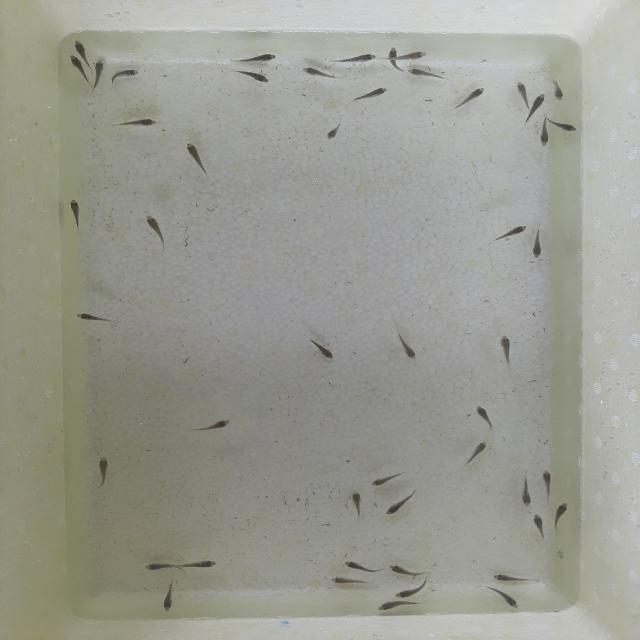fingerling: (382, 488, 419, 518), (192, 412, 236, 436), (490, 587, 530, 612), (142, 211, 168, 245), (395, 336, 427, 363), (179, 138, 207, 168), (494, 332, 521, 362), (71, 310, 116, 327), (524, 91, 546, 125), (515, 473, 535, 509), (456, 86, 488, 108), (489, 568, 528, 585), (307, 339, 338, 360), (300, 65, 338, 81), (376, 598, 414, 614), (66, 196, 86, 226), (474, 403, 498, 428), (233, 54, 283, 65), (356, 85, 392, 100), (470, 440, 488, 469), (497, 224, 529, 240), (116, 117, 162, 128), (236, 70, 272, 84), (406, 66, 444, 79), (368, 473, 400, 488), (350, 487, 366, 517), (388, 563, 420, 578), (162, 578, 176, 612), (392, 586, 431, 598), (541, 469, 555, 501), (96, 456, 110, 488), (538, 123, 556, 147), (551, 502, 570, 524), (336, 52, 377, 62), (113, 68, 142, 82), (552, 120, 580, 134), (516, 80, 532, 104), (144, 562, 182, 572), (344, 559, 372, 572), (90, 58, 106, 80), (322, 574, 366, 582), (551, 78, 566, 101), (532, 510, 545, 535), (402, 51, 429, 63), (532, 232, 544, 259), (65, 55, 86, 70), (323, 124, 343, 139), (72, 39, 88, 55), (382, 46, 400, 59), (188, 561, 220, 568)
